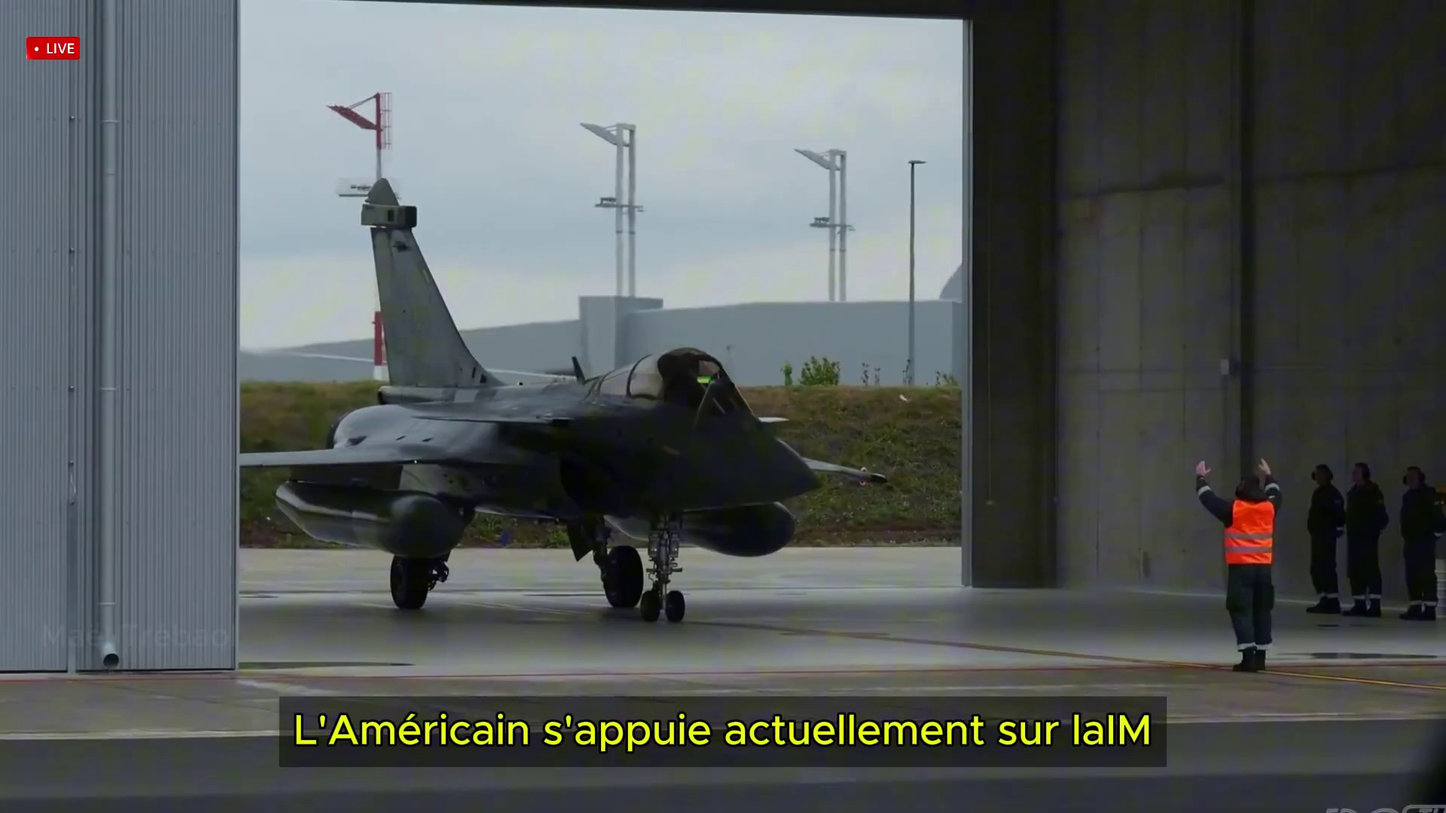Rafale: (243, 185, 880, 628)
